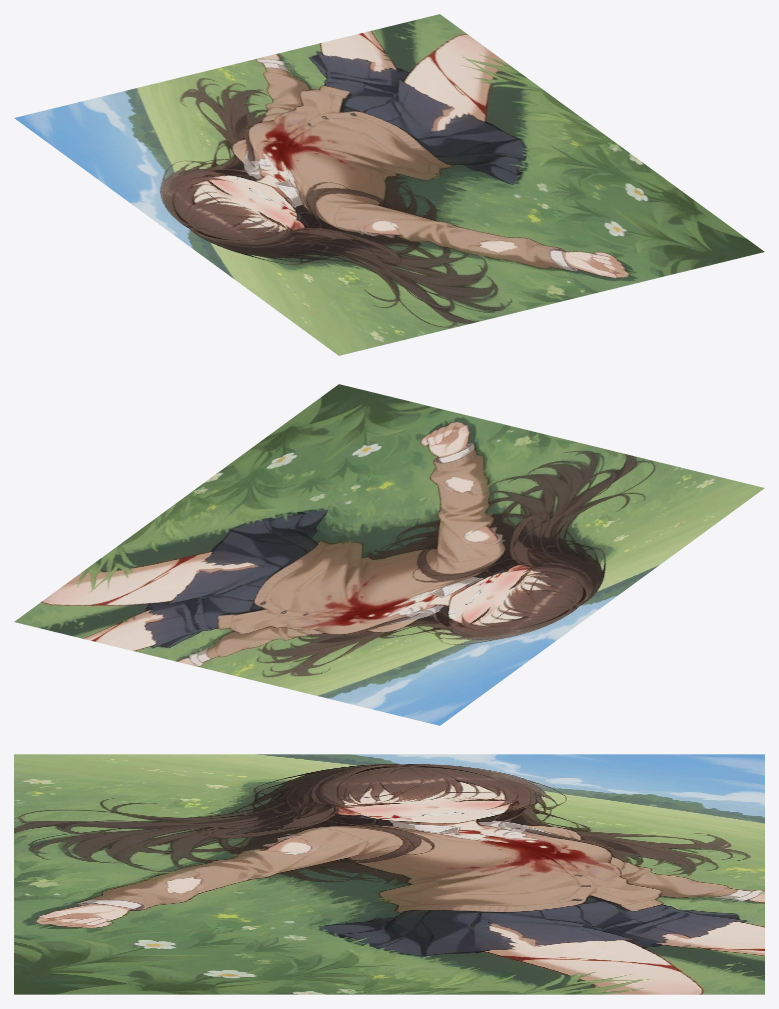
File: stage.fbx
3 renders of one model, top to bottom at view 1: azimuth 30°, elevation 25°; view 2: azimuth 150°, elevation 25°; view 3: azimuth 270°, elevation 25°, orthographic. The views are drawn at different scales.
Parts seen in each view (by area): view 1: Plane001; view 2: Plane001; view 3: Plane001.
Boxes of the visible parts, x1,y1,x2,y2 form: Plane001: [14, 14, 764, 355]; Plane001: [14, 384, 764, 725]; Plane001: [14, 754, 764, 994].
Bounding box in the file's own units: 36.92 × 2.99e-15 × 48.78.
